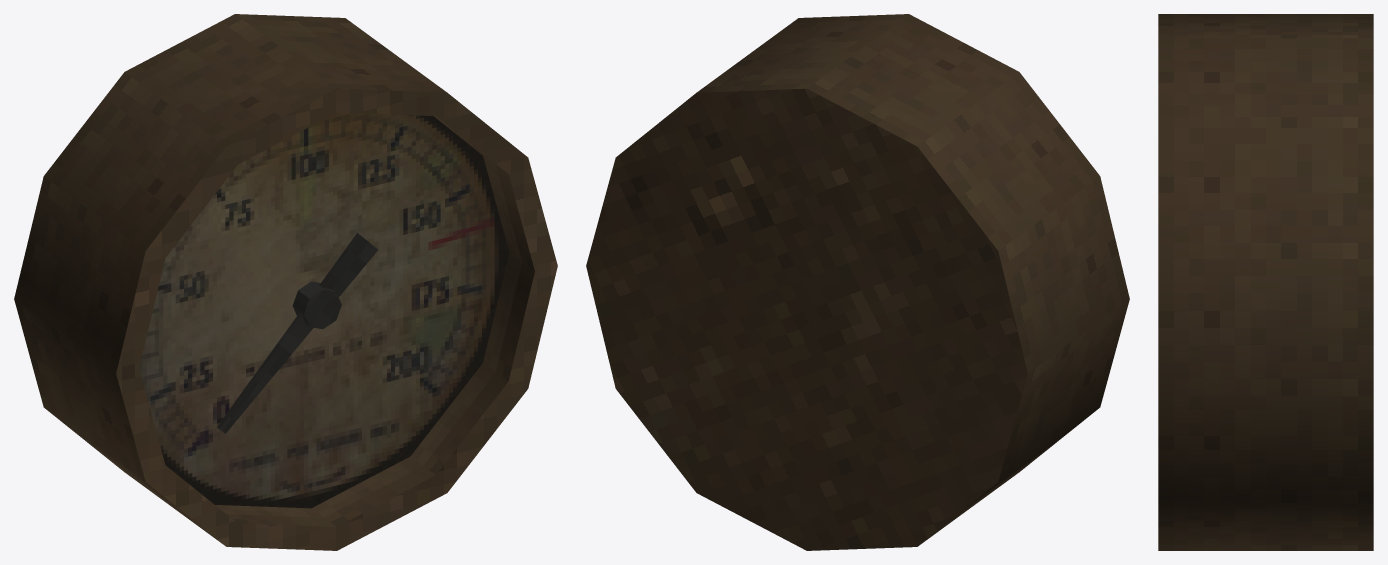
Rendered from gauge_etx_1_1.glb.
The picture shows the model from 3 angles, left to right: view 1: azimuth 30°, elevation 25°; view 2: azimuth 150°, elevation 25°; view 3: azimuth 270°, elevation 25°; orthographic projection. The views are drawn at different scales.
Parts seen in each view (by area): view 1: gauge_etx_1_1, gauge_pointer_etx_1_1_child; view 2: gauge_etx_1_1; view 3: gauge_etx_1_1.
Boxes of the visible parts, x1,y1,x2,y2 form: gauge_etx_1_1: (14, 14, 557, 550); gauge_pointer_etx_1_1_child: (216, 233, 377, 433); gauge_etx_1_1: (586, 14, 1129, 550); gauge_etx_1_1: (1158, 14, 1373, 550).
Bounding box in the file's own units: 0.2 × 0.2 × 0.08.
Materials: 3 (3 with a texture image).
